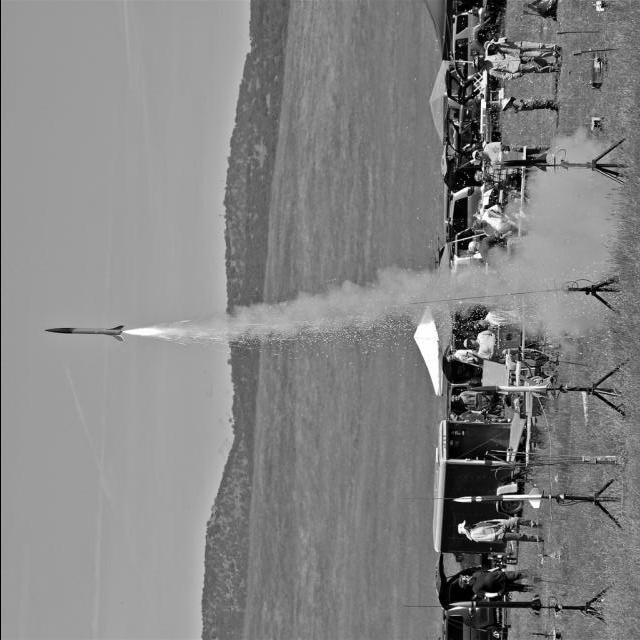missile: (453, 490, 540, 510), (45, 324, 123, 344), (471, 380, 548, 400), (448, 596, 543, 612), (493, 151, 544, 173)
